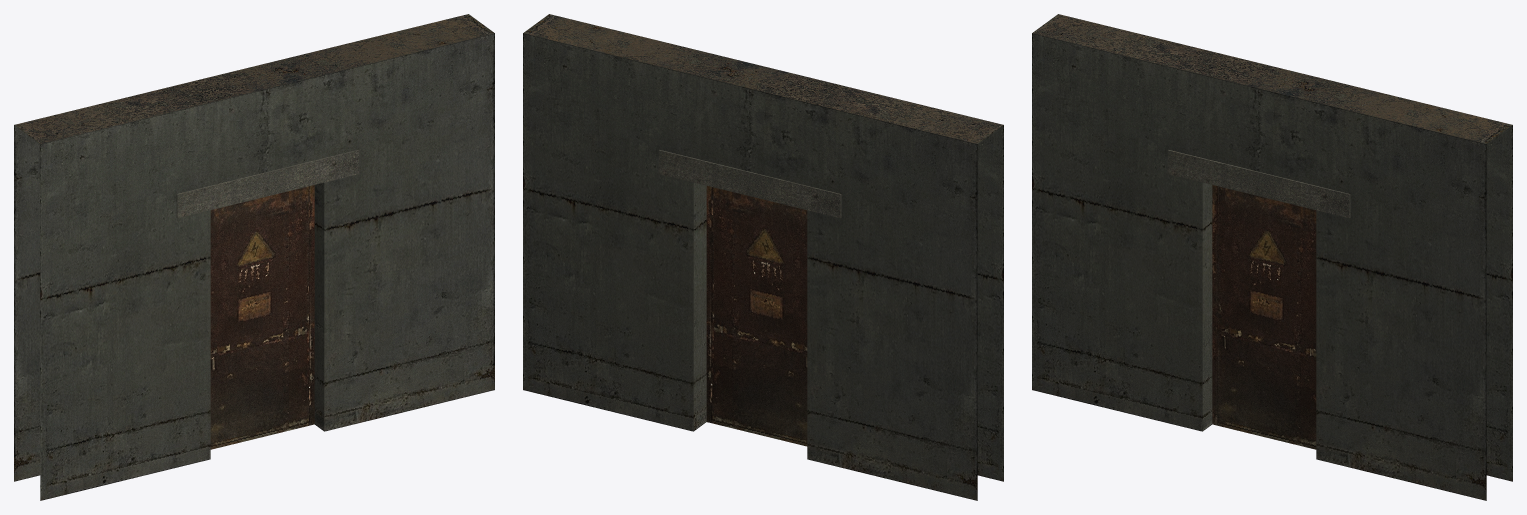
Rendered from doorway_rg_1_regular.glb.
The picture shows the model from 3 angles, left to right: view 1: azimuth 30°, elevation 25°; view 2: azimuth 150°, elevation 25°; view 3: azimuth 330°, elevation 25°; orthographic projection.
Parts seen in each view (by area): view 1: doorway_rg_1_regular, door_hr_4; view 2: doorway_rg_1_regular, door_hr_4; view 3: doorway_rg_1_regular, door_hr_4.
Part boxes in pixels (bbox=[...]): doorway_rg_1_regular: bbox=[14, 14, 494, 500]; door_hr_4: bbox=[210, 185, 314, 449]; doorway_rg_1_regular: bbox=[523, 14, 1003, 500]; door_hr_4: bbox=[706, 186, 807, 446]; doorway_rg_1_regular: bbox=[1032, 14, 1512, 500]; door_hr_4: bbox=[1212, 185, 1316, 449].
Size of the model in its own units: 4 by 3 by 0.42.
Materials: 4 (4 with a texture image).
